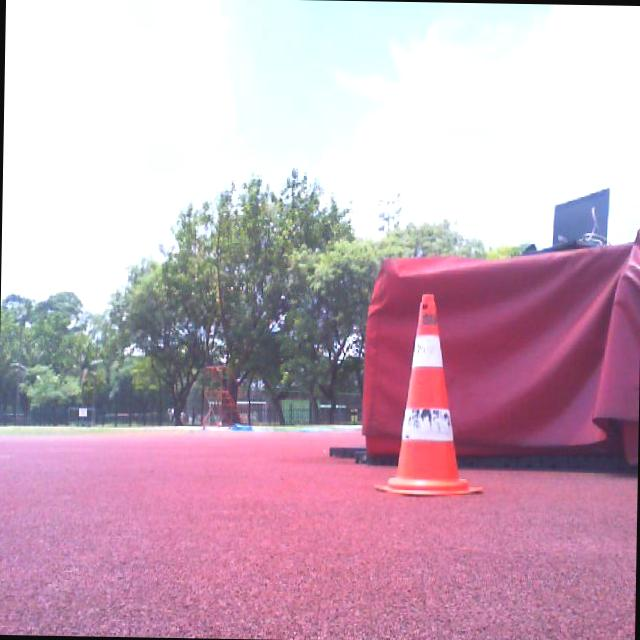Cone: (374, 293, 484, 499)
